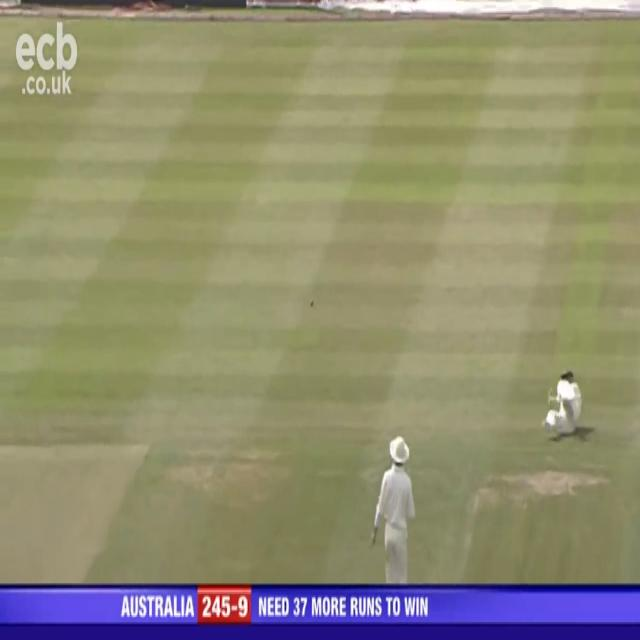ball: (308, 297, 316, 311)
